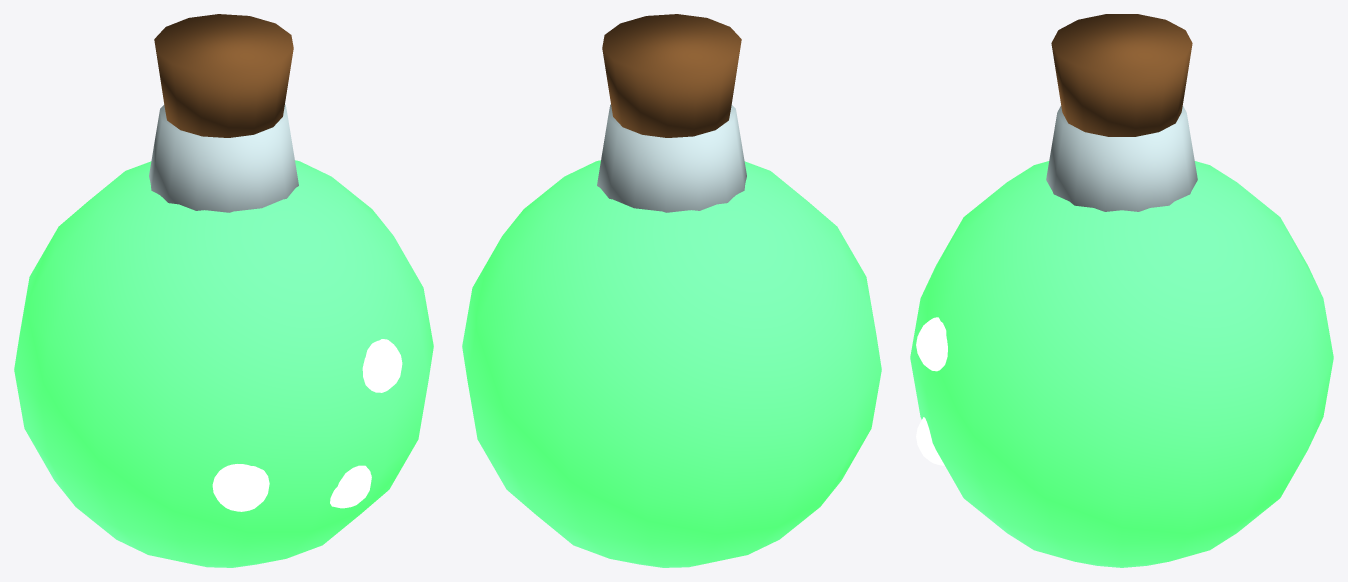
File: potion_mana.glb
The picture shows the model from 3 angles, left to right: view 1: azimuth 30°, elevation 25°; view 2: azimuth 150°, elevation 25°; view 3: azimuth 270°, elevation 25°; orthographic projection.
Parts seen in each view (by area): view 1: body, cork, neck, spark.001, spark, spark.002; view 2: body, cork, neck; view 3: body, cork, neck, spark, spark.002.
Boxes of the visible parts, x1,y1,x2,y2 form: body: [14, 160, 433, 567]; cork: [154, 14, 293, 137]; neck: [149, 104, 298, 212]; spark.001: [212, 464, 269, 511]; spark: [362, 339, 402, 392]; spark.002: [330, 465, 371, 508]; body: [462, 160, 881, 567]; cork: [602, 14, 741, 137]; neck: [597, 104, 746, 212]; body: [910, 161, 1333, 567]; cork: [1051, 14, 1192, 136]; neck: [1046, 105, 1197, 211]; spark: [916, 317, 947, 371]; spark.002: [916, 417, 944, 465].
Size of the model in its own units: 0.36 by 0.475 by 0.36.
